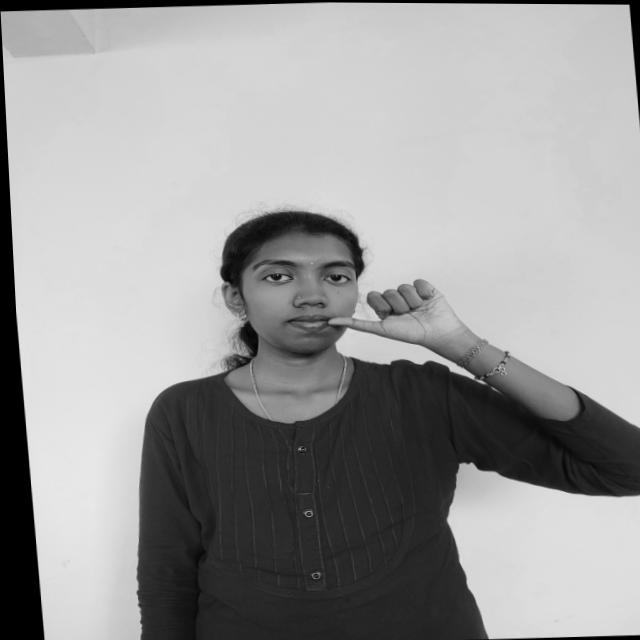Drink: (316, 274, 475, 359)
